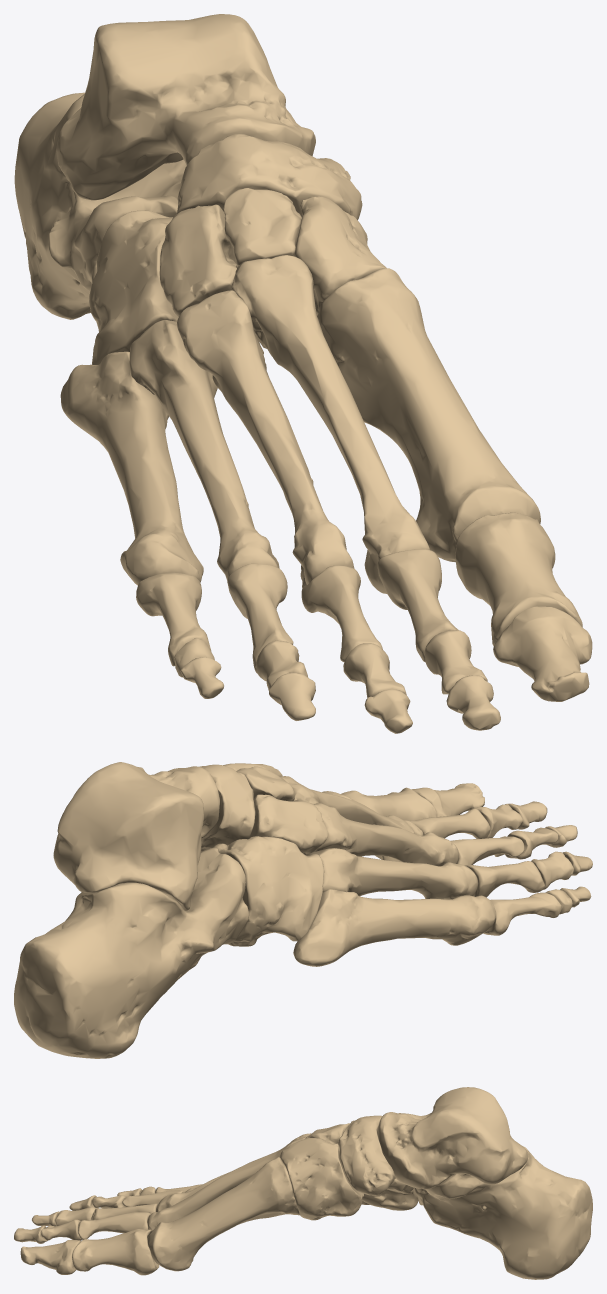
Rendered from explorar-foot.glb.
The picture shows the model from 3 angles, top to bottom: view 1: azimuth 30°, elevation 25°; view 2: azimuth 150°, elevation 25°; view 3: azimuth 270°, elevation 25°; orthographic projection. The views are drawn at different scales.
Visible parts, largest first — view 1: foot__astragalo, foot__metatarsiano_i, foot__metatarsiano_ii, foot__calcaneo, foot__falanges_i, foot__metatarsiano_v, foot__metatarsiano_iii, foot__metatarsiano_iv, foot__navicular, foot__cuboides, foot__falanges_ii, foot__falanges_iii (+5 smaller); view 2: foot__calcaneo, foot__astragalo, foot__metatarsiano_v, foot__cuboides, foot__metatarsiano_iv, foot__metatarsiano_iii, foot__falanges_i, foot__cuneiforme_lateral, foot__falanges_iv, foot__falanges_ii, foot__navicular, foot__falanges_iii (+3 smaller); view 3: foot__calcaneo, foot__astragalo, foot__metatarsiano_i, foot__cuneiforme_medial, foot__falanges_i, foot__navicular, foot__metatarsiano_ii, foot__falanges_ii, foot__falanges_iii, foot__falanges_iv, foot__cuboides, foot__cuneiforme_intermedio (+2 smaller).
Boxes of the visible parts, left/top/right/bottom form: foot__astragalo: left=56, top=14, right=315, bottom=200; foot__metatarsiano_i: left=317, top=268, right=540, bottom=562; foot__metatarsiano_ii: left=231, top=255, right=429, bottom=593; foot__calcaneo: left=14, top=92, right=186, bottom=319; foot__falanges_i: left=455, top=512, right=592, bottom=701; foot__metatarsiano_v: left=60, top=351, right=203, bottom=585; foot__metatarsiano_iii: left=176, top=290, right=354, bottom=587; foot__metatarsiano_iv: left=129, top=320, right=279, bottom=580; foot__navicular: left=176, top=134, right=362, bottom=220; foot__cuboides: left=89, top=210, right=178, bottom=364; foot__falanges_ii: left=377, top=549, right=500, bottom=730; foot__falanges_iii: left=301, top=565, right=412, bottom=733; foot__calcaneo: left=14, top=847, right=249, bottom=1058; foot__astragalo: left=53, top=762, right=219, bottom=910; foot__metatarsiano_v: left=293, top=889, right=495, bottom=966; foot__cuboides: left=213, top=836, right=324, bottom=946; foot__metatarsiano_iv: left=308, top=848, right=478, bottom=899; foot__metatarsiano_iii: left=303, top=803, right=458, bottom=866; foot__falanges_i: left=341, top=783, right=484, bottom=856; foot__cuneiforme_lateral: left=248, top=794, right=327, bottom=853; foot__falanges_iv: left=464, top=851, right=592, bottom=897; foot__falanges_ii: left=408, top=801, right=547, bottom=838; foot__navicular: left=199, top=764, right=255, bottom=848; foot__falanges_iii: left=450, top=825, right=577, bottom=865; foot__calcaneo: left=414, top=1146, right=592, bottom=1279; foot__astragalo: left=378, top=1087, right=528, bottom=1189; foot__metatarsiano_i: left=148, top=1157, right=299, bottom=1271; foot__cuneiforme_medial: left=280, top=1137, right=363, bottom=1220; foot__falanges_i: left=20, top=1229, right=159, bottom=1275; foot__navicular: left=338, top=1115, right=395, bottom=1195; foot__metatarsiano_ii: left=147, top=1133, right=310, bottom=1230; foot__falanges_ii: left=14, top=1212, right=150, bottom=1243; foot__falanges_iii: left=32, top=1203, right=157, bottom=1226; foot__falanges_iv: left=69, top=1190, right=184, bottom=1210; foot__cuboides: left=362, top=1178, right=418, bottom=1210; foot__cuneiforme_intermedio: left=305, top=1123, right=350, bottom=1155.
Size of the model in its own units: 0.0911 by 0.074 by 0.2217.
